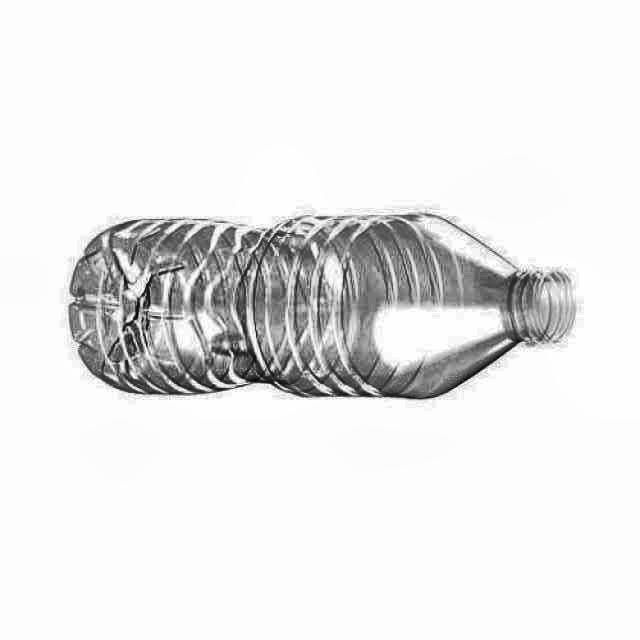plastic: (70, 213, 574, 397)
